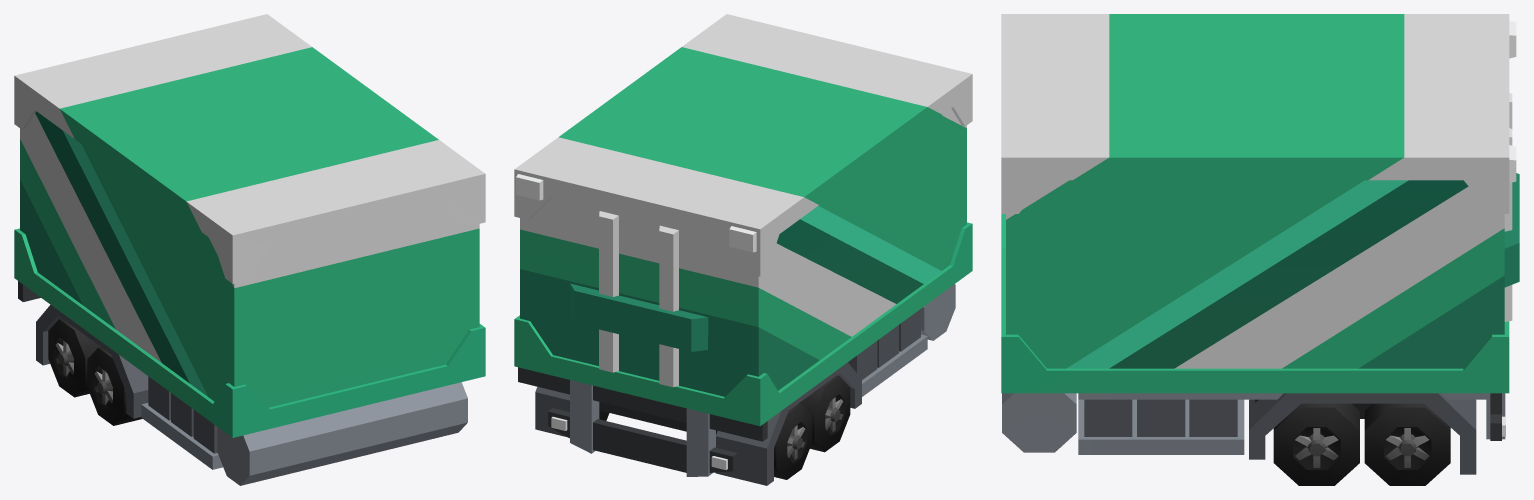
File: cargo_03_D_1.fbx
3 views of the same model, side by side, from view 1: azimuth 30°, elevation 25°; view 2: azimuth 150°, elevation 25°; view 3: azimuth 270°, elevation 25° (orthographic). The views are drawn at different scales.
Visible parts, largest first — view 1: cargo_03_D_1; view 2: cargo_03_D_1; view 3: cargo_03_D_1.
Boxes of the visible parts, x1,y1,x2,y2 form: cargo_03_D_1: (14,14,485,485); cargo_03_D_1: (514,14,972,485); cargo_03_D_1: (1001,14,1519,485).
Bounding box in the file's own units: 14.02 × 15.18 × 21.4.
